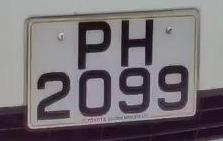0: (72, 64, 121, 121)
2: (31, 63, 76, 126)
9: (114, 65, 158, 118), (154, 61, 192, 116)
H: (114, 15, 164, 71)
P: (71, 16, 120, 73)
